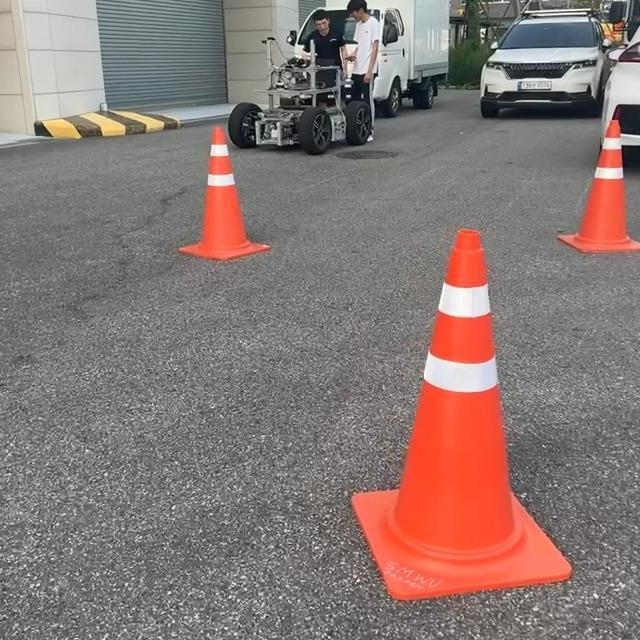fallen_object: (317, 206, 562, 585), (163, 123, 289, 255), (557, 90, 640, 284)
